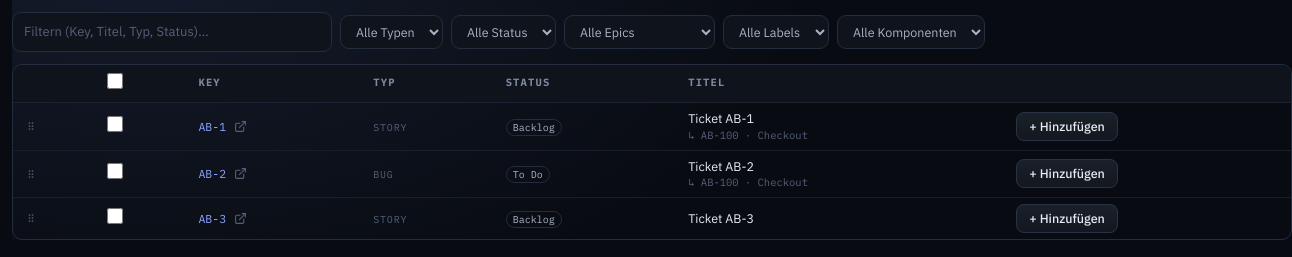
Test case: BacklogTable filters › filters by the chosen label and can be reset
This screenshot has width=1292, height=257.
Select "api" in the dropdown named "Nach Label filtern". click: (776, 32)
box: [723,15,829,49]
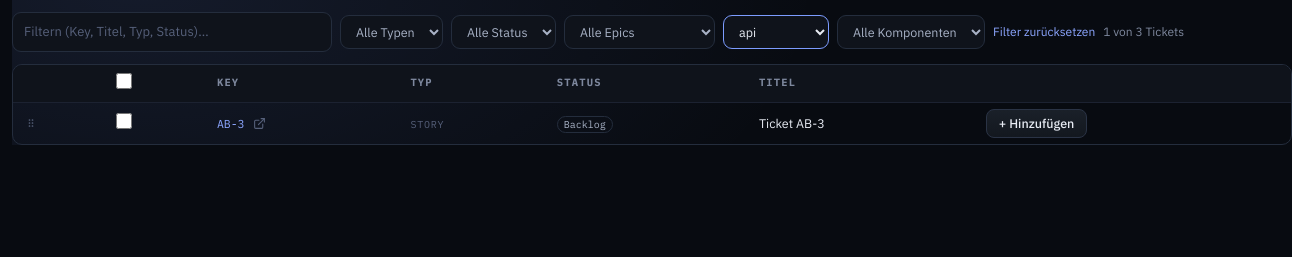
Expected: the text "Ticket AB-3" is shown, [759,115,825,131]
Result: the text "Ticket AB-1" is gone
Result: the text "1 von 3 Tickets" is shown at [1103,23,1184,41]
Click the button "Filter zurücksetzen". click: (1044, 32)
box: [993,23,1095,41]
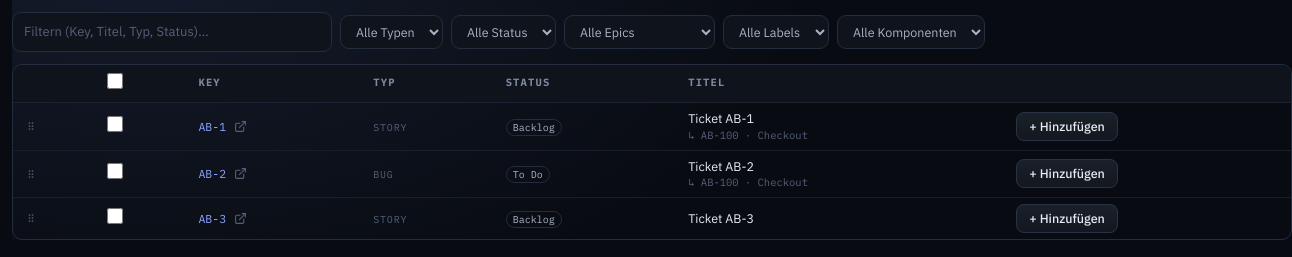
Result: the text "Ticket AB-1" is shown at [688,110,754,126]
